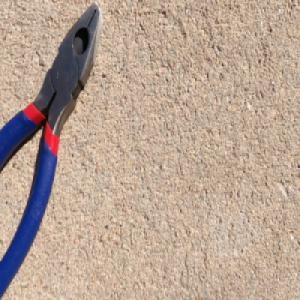Pliers: (0, 2, 102, 296)
